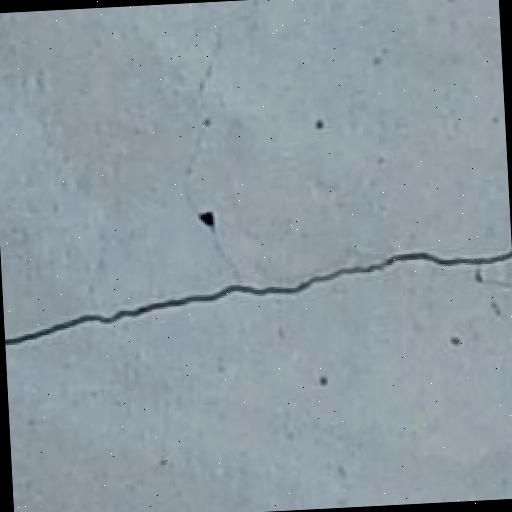spalling: (17, 241, 506, 366), (162, 3, 260, 281)
